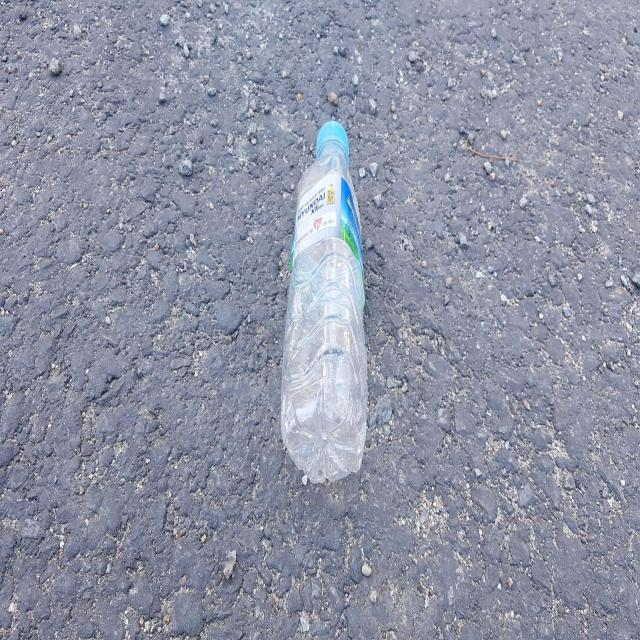plastic: (281, 119, 368, 483)
